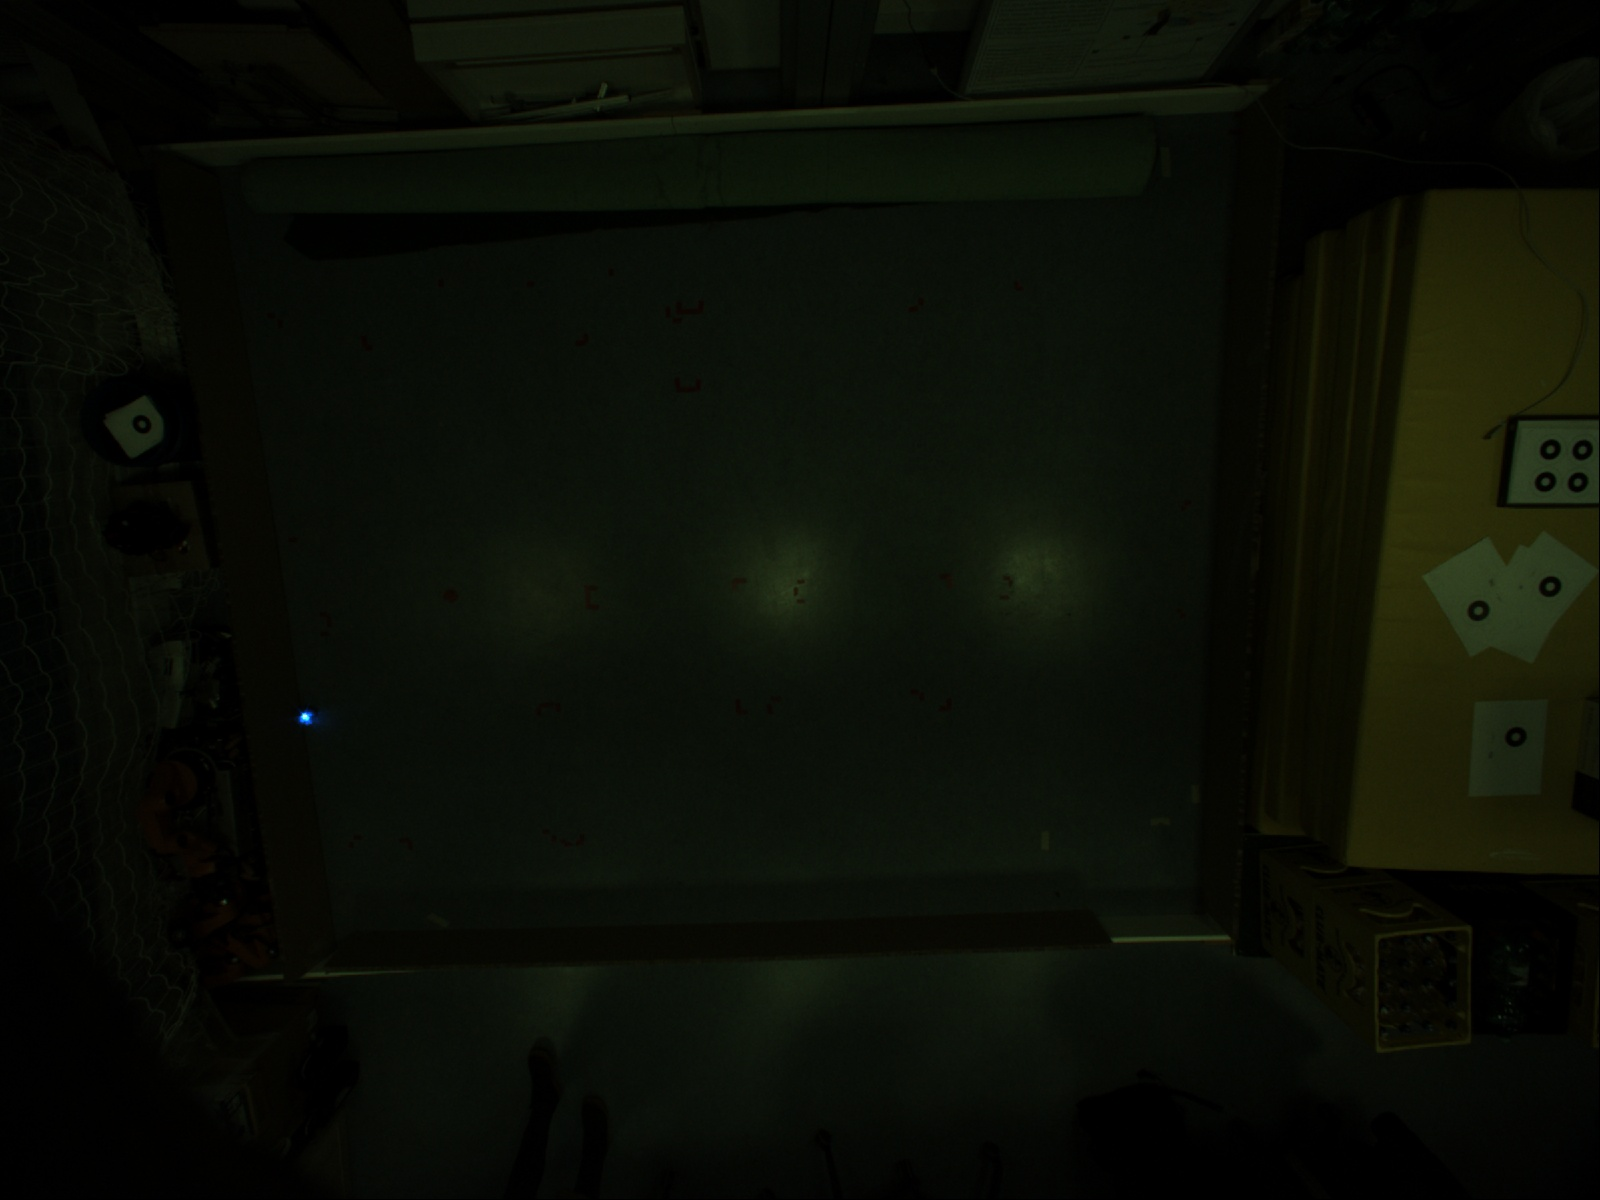sphero: (291, 701, 321, 734)
